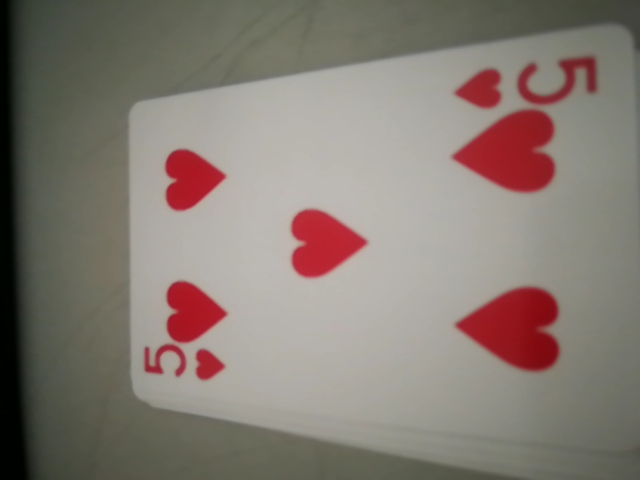hx 5: (451, 45, 607, 115)
